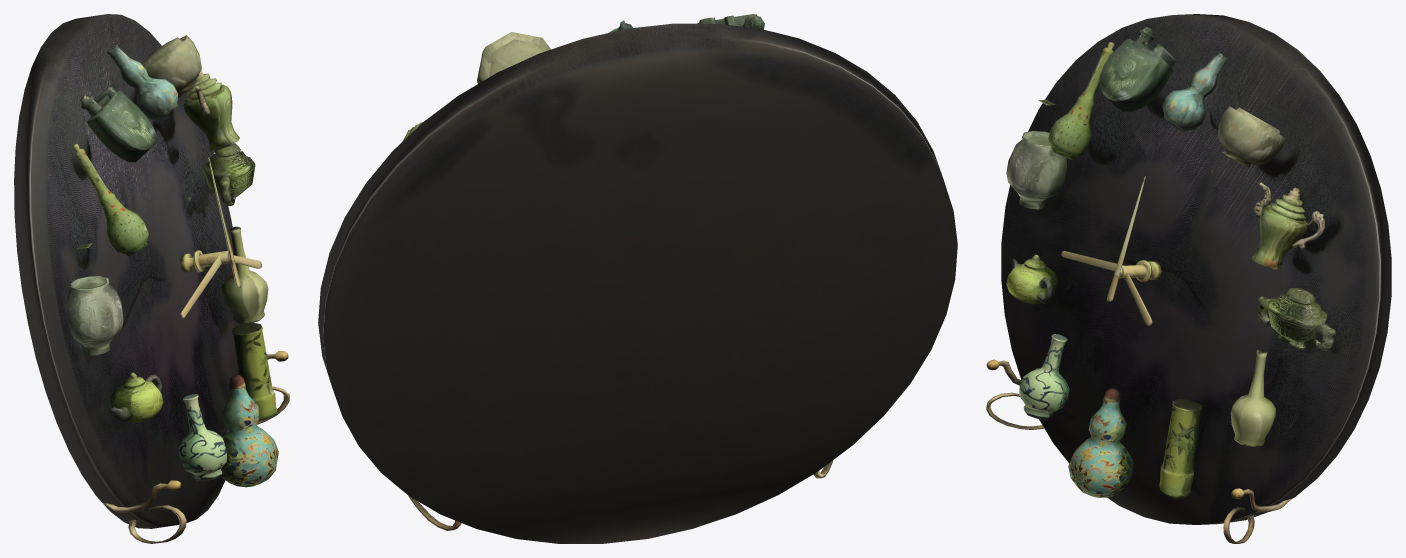
3 renders of one model, left to right at view 1: azimuth 30°, elevation 25°; view 2: azimuth 150°, elevation 25°; view 3: azimuth 270°, elevation 25°, orthographic. The views are drawn at different scales.
Visible parts, largest first — view 1: tripo_3c94c290_d589_47f0_b9e9_6cf24f85bdf7; view 2: tripo_3c94c290_d589_47f0_b9e9_6cf24f85bdf7; view 3: tripo_3c94c290_d589_47f0_b9e9_6cf24f85bdf7.
Part boxes in pixels (x1,y1,x2,y2): tripo_3c94c290_d589_47f0_b9e9_6cf24f85bdf7: (14,14,289,543); tripo_3c94c290_d589_47f0_b9e9_6cf24f85bdf7: (318,14,957,543); tripo_3c94c290_d589_47f0_b9e9_6cf24f85bdf7: (986,14,1391,543).
Size of the model in its own units: 3.03 by 3.73 by 3.03.
1 material, 1 textured.
